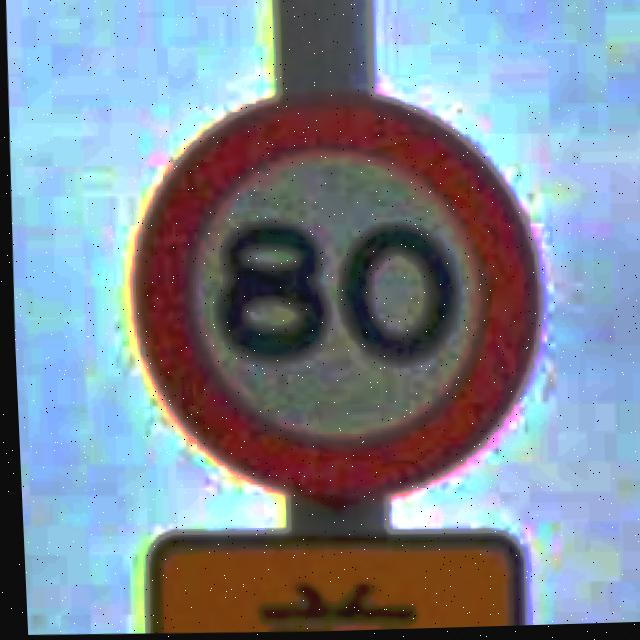max80: (114, 80, 548, 515)
